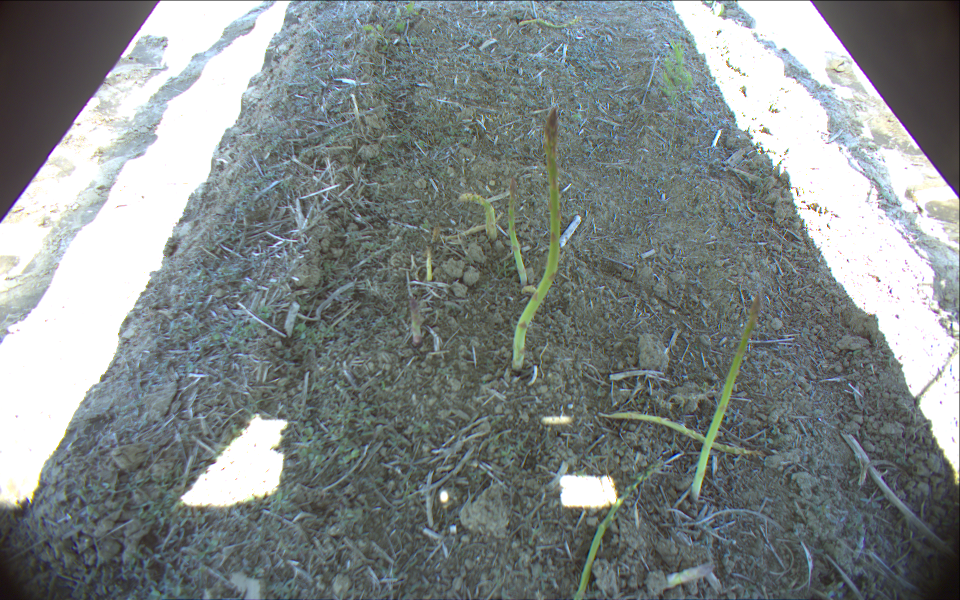aspa: (686, 290, 763, 504), (508, 104, 566, 374), (503, 171, 534, 287), (456, 192, 498, 245)
